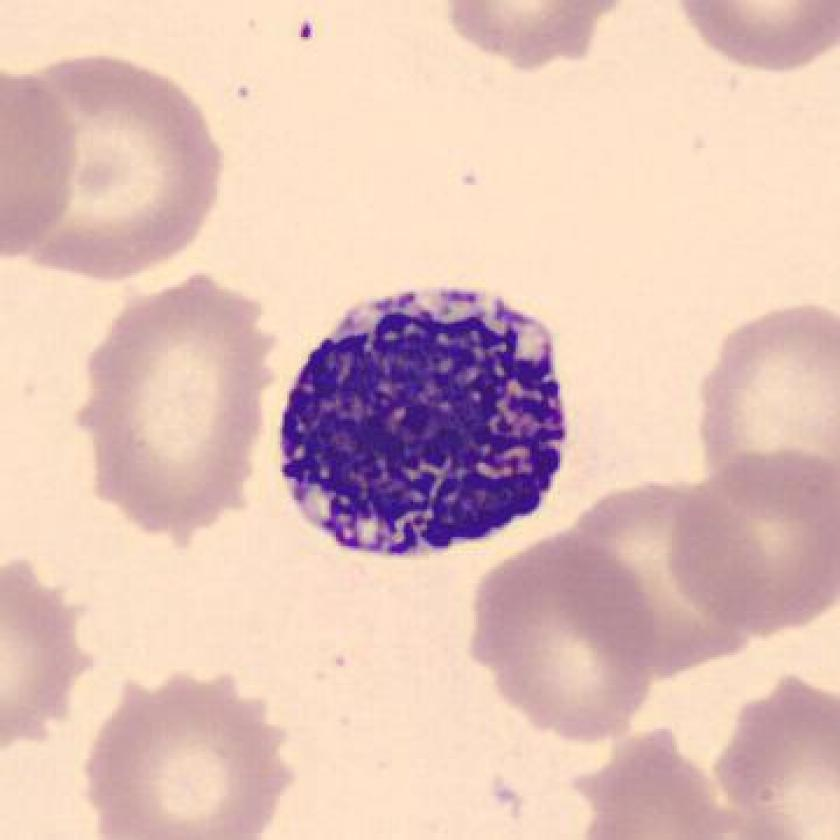basophil: (272, 274, 580, 575)
